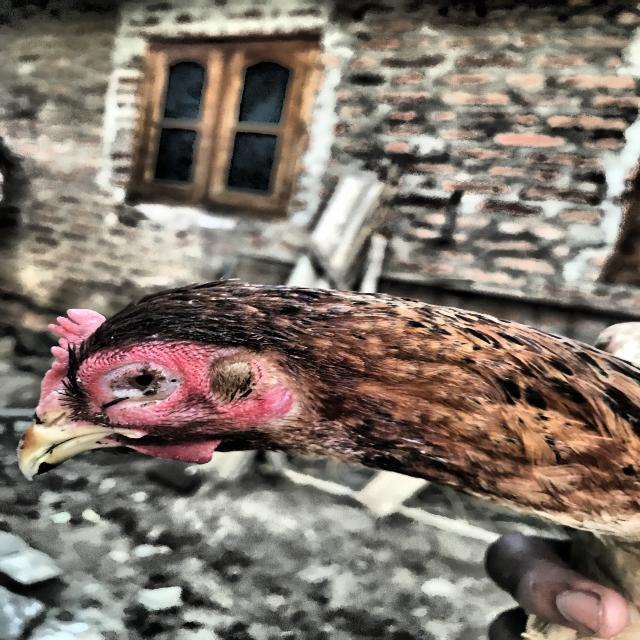Coryza: (4, 233, 640, 569)
